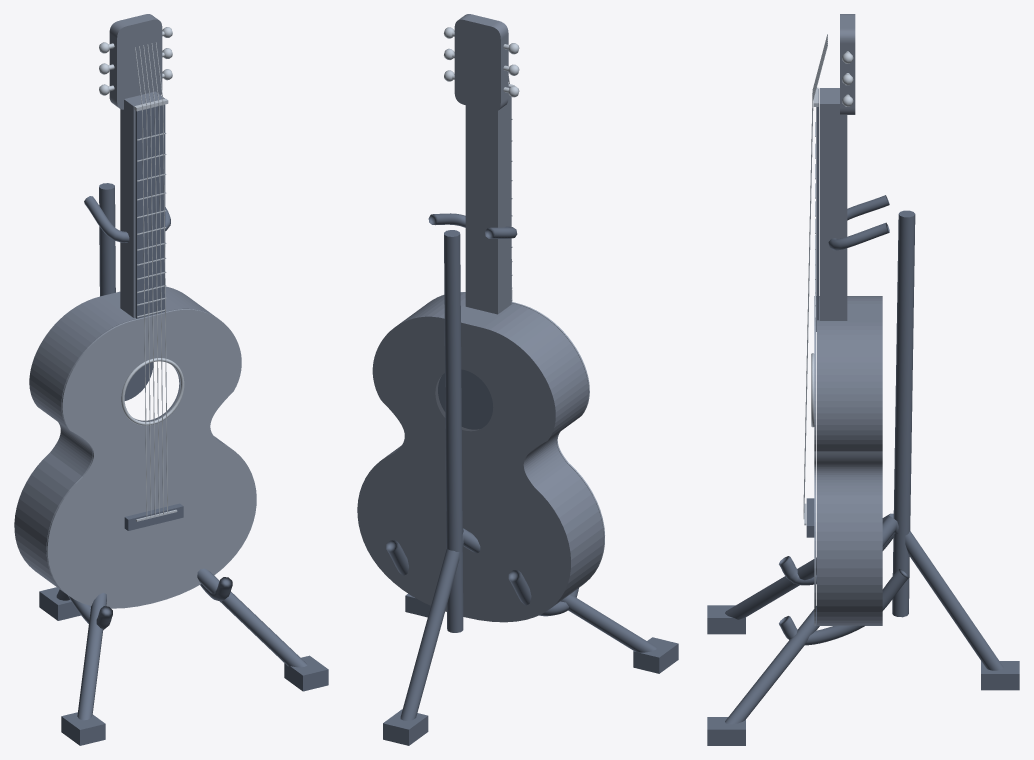
Rendered from 吉他＋支架-lite.glb.
3 renders of one model, left to right at view 1: azimuth 30°, elevation 25°; view 2: azimuth 150°, elevation 25°; view 3: azimuth 270°, elevation 25°, orthographic. The views are drawn at different scales.
Parts seen in each view (by area): view 1: guitar-stand-accent, guitar-stand-frame, guitar-stand-dark, guitar-stand-light; view 2: guitar-stand-frame, guitar-stand-dark, guitar-stand-light, guitar-stand-accent; view 3: guitar-stand-frame, guitar-stand-dark, guitar-stand-light, guitar-stand-accent.
Part boxes in pixels (left/top/right/bottom): guitar-stand-accent: left=46, top=309, right=256, bottom=608; guitar-stand-frame: left=14, top=14, right=229, bottom=593; guitar-stand-dark: left=39, top=104, right=328, bottom=745; guitar-stand-light: left=99, top=27, right=184, bottom=521; guitar-stand-frame: left=357, top=14, right=603, bottom=622; guitar-stand-dark: left=383, top=87, right=678, bottom=745; guitar-stand-light: left=444, top=27, right=519, bottom=301; guitar-stand-accent: left=433, top=292, right=604, bottom=583; guitar-stand-frame: left=817, top=14, right=882, bottom=625; guitar-stand-dark: left=707, top=89, right=1019, bottom=745; guitar-stand-light: left=803, top=34, right=853, bottom=525; guitar-stand-accent: left=814, top=296, right=816, bottom=625.
Size of the model in its own units: 0.457 by 1.13 by 0.485.
